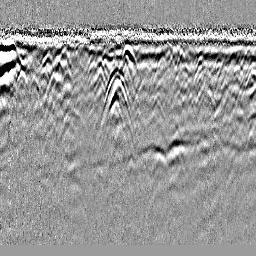cavity: (117, 42, 140, 73)
